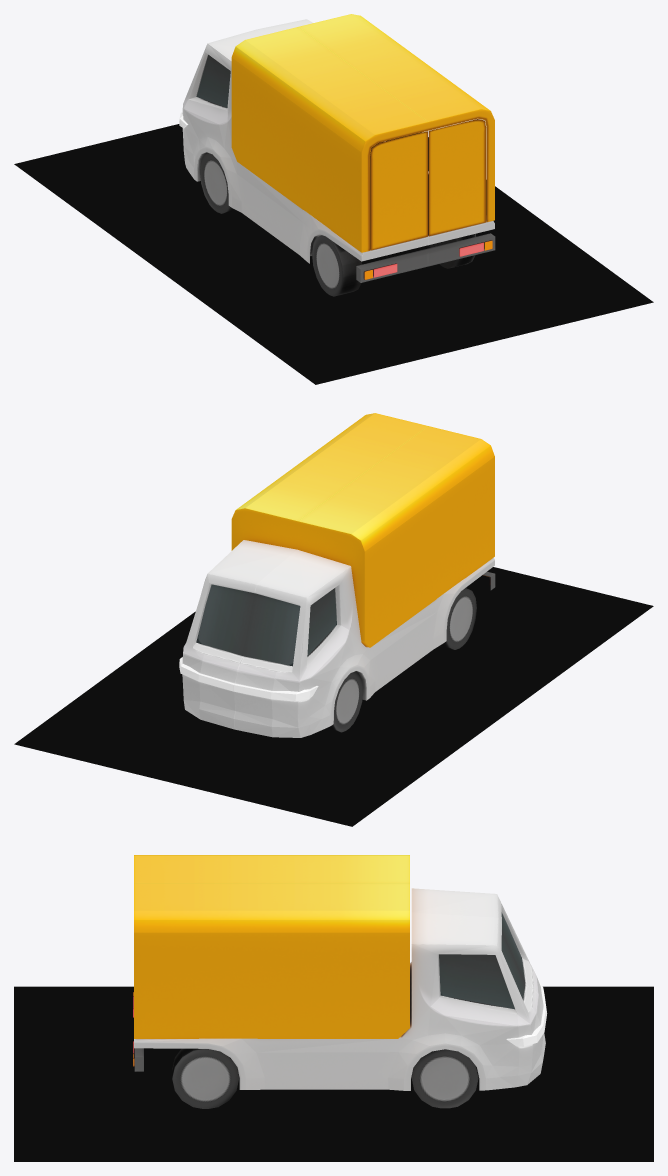
Rendered from truck_medium.glb.
The picture shows the model from 3 angles, top to bottom: view 1: azimuth 30°, elevation 25°; view 2: azimuth 150°, elevation 25°; view 3: azimuth 270°, elevation 25°; orthographic projection. The views are drawn at different scales.
Visible parts, largest first — view 1: Node; view 2: Node; view 3: Node.
Part boxes in pixels (x1,y1,x2,y2): Node: (14,14,653,384); Node: (14,413,653,826); Node: (14,855,653,1161).
Size of the model in its own units: 64.75 by 33.06 by 100.
1 material, 1 textured.
